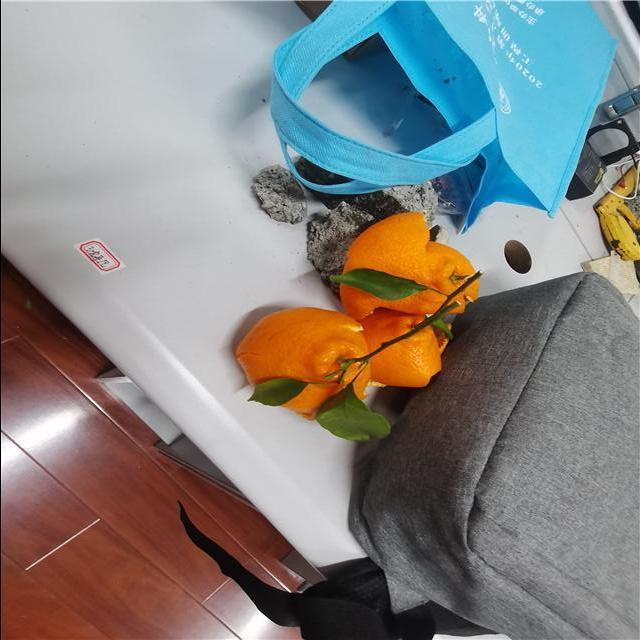orange peel: (230, 284, 383, 440), (328, 210, 506, 316), (355, 300, 468, 418)
